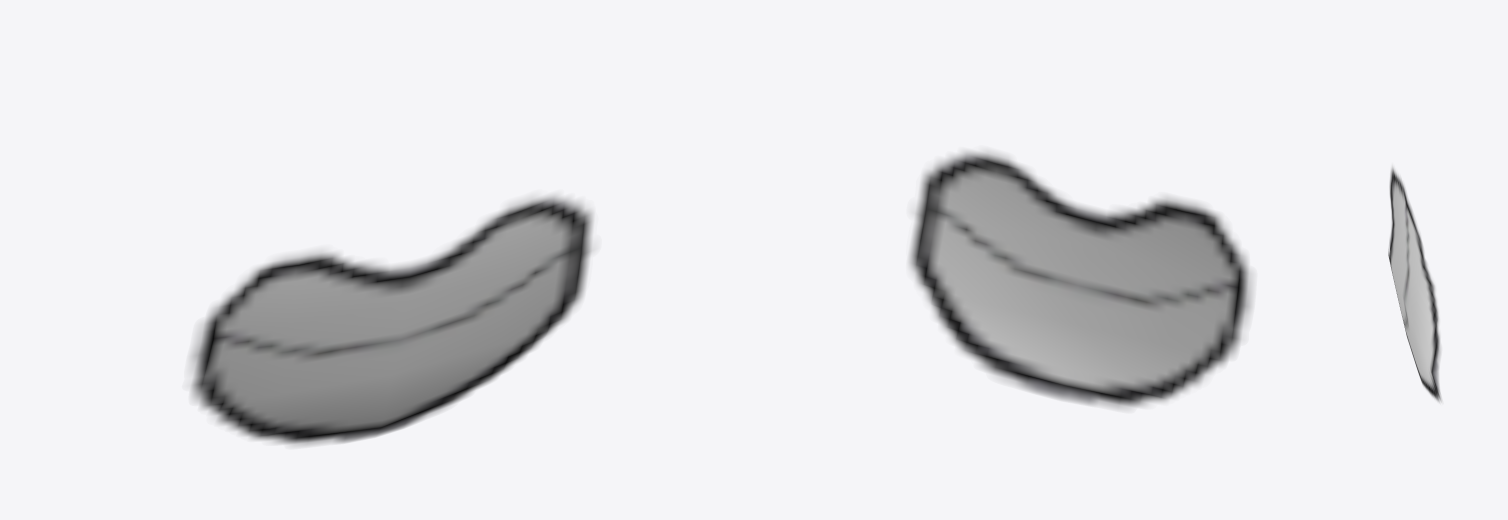
File: Smile 7.glb
3 views of the same model, side by side, from view 1: azimuth 30°, elevation 25°; view 2: azimuth 150°, elevation 25°; view 3: azimuth 270°, elevation 25° (orthographic). The views are drawn at different scales.
Visible parts, largest first — view 1: smile_7; view 2: smile_7; view 3: smile_7.
Boxes of the visible parts, x1=… form: smile_7: x1=191, y1=193, x2=593, y2=445; smile_7: x1=908, y1=149, x2=1250, y2=408; smile_7: x1=1388, y1=165, x2=1441, y2=402.
Bounding box in the file's own units: 0.00271 × 0.0016 × 0.000539.
1 material, 1 textured.
